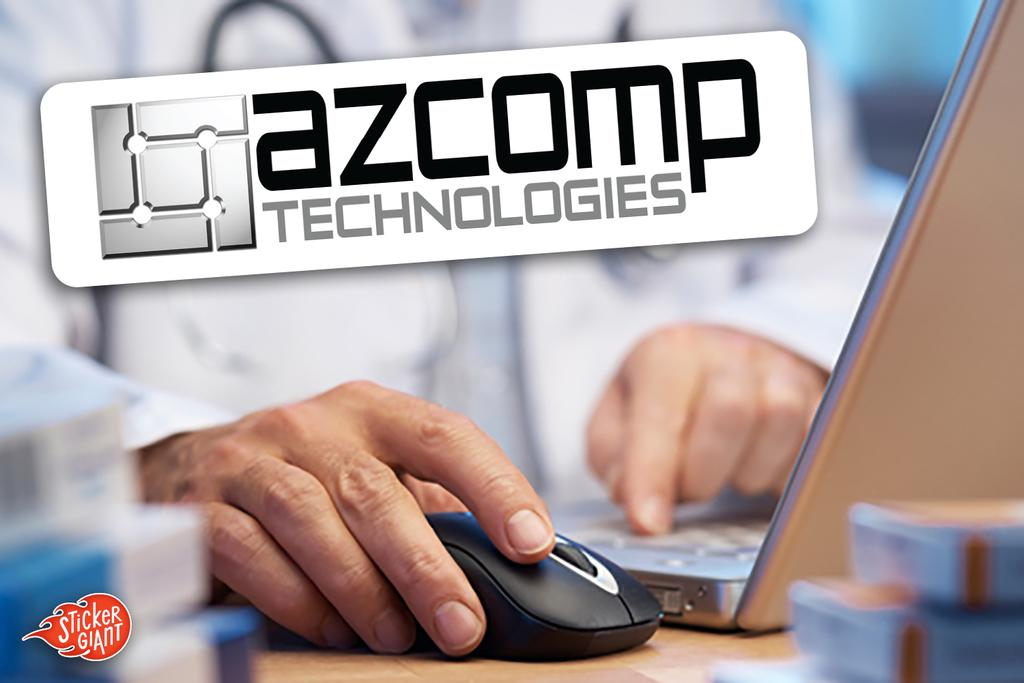Computer-keyboard: (568, 510, 773, 557)
Computer-mouse: (373, 509, 664, 663)
